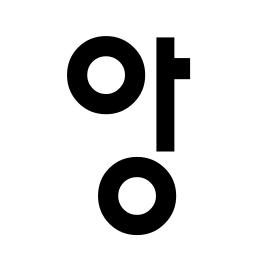Gaji: (146, 49, 186, 91)
